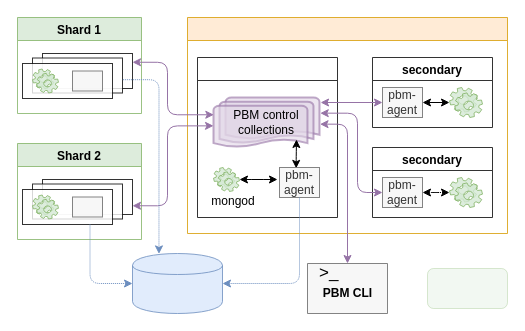
The diagram is 525 pixels wide and 331 high, and some of its shapes have lost their labels. Here are the shapes that lost their labels. From the top down, the box of each, then its label:
(196, 56, 338, 218): Primary
(186, 16, 508, 234): config server replica set
(132, 252, 222, 314): remote backup storage
(426, 268, 508, 308): mongos
